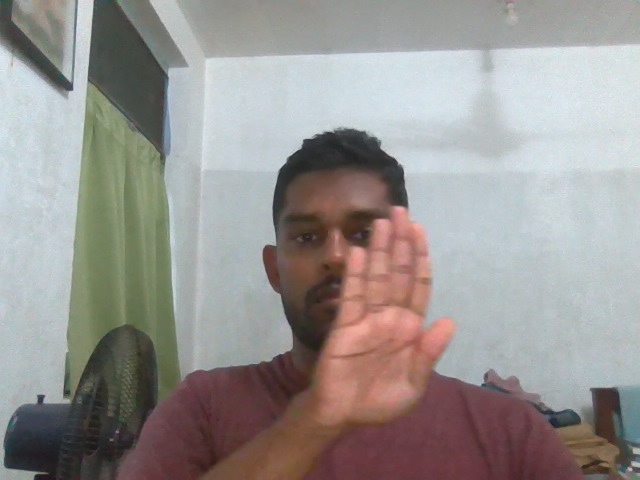bye: (302, 200, 469, 435)
